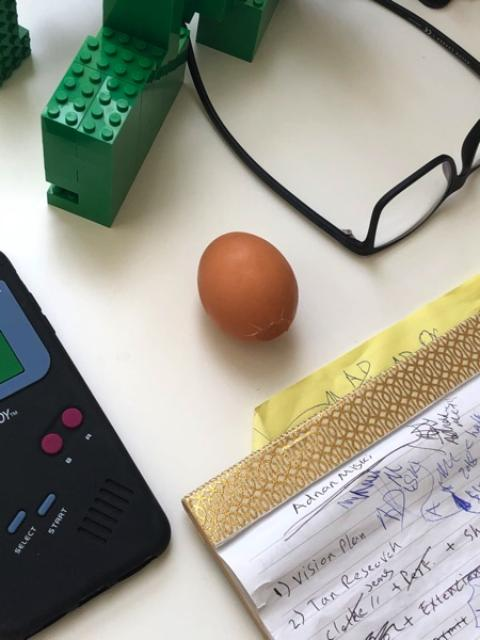Roto: (196, 229, 299, 342)
